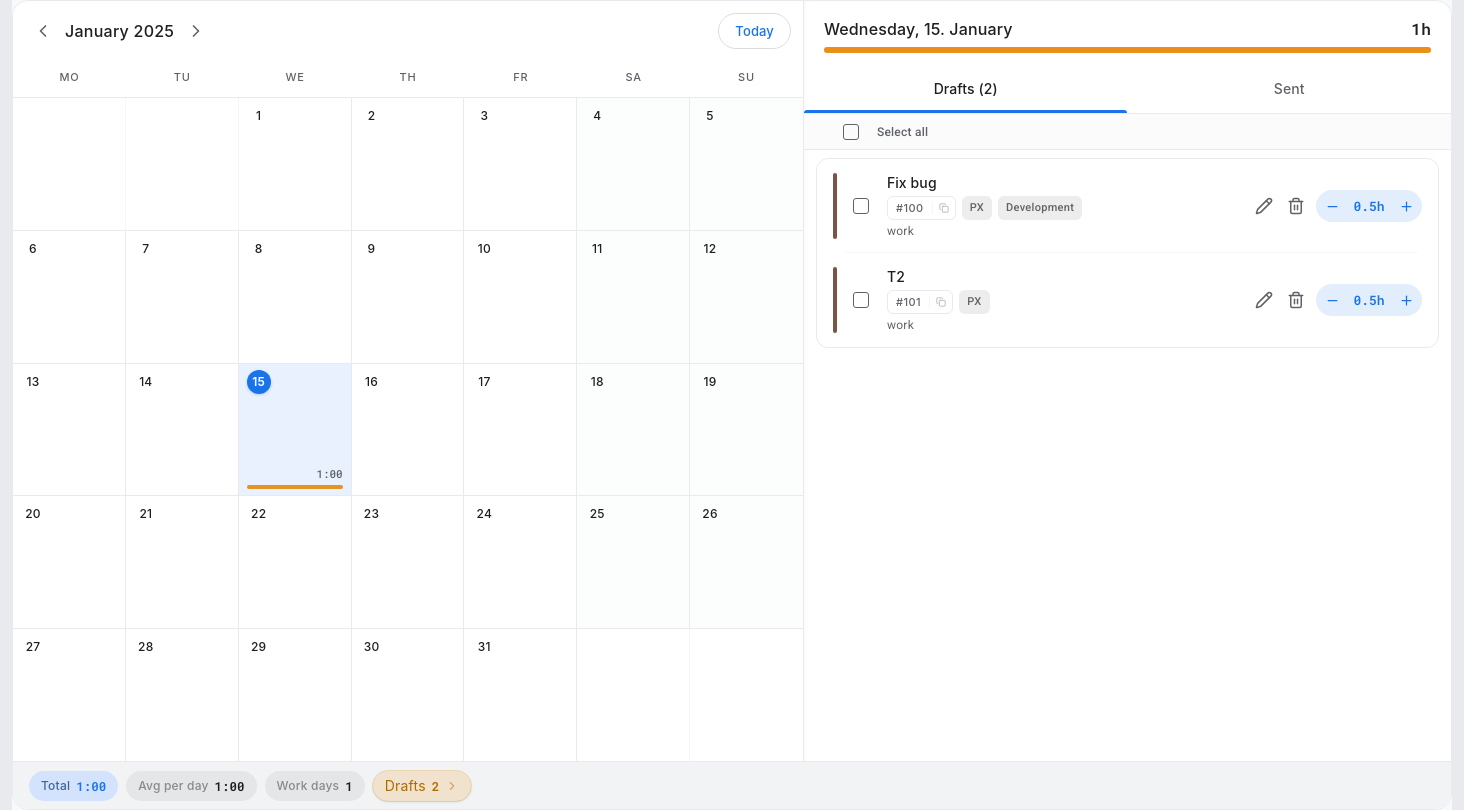
MonthView › handleBatchSync removes synced IDs from selection (sync button disappears)
Step 1. Click the checkbox next to "Select all" → point(851, 132), box [837,118,865,146]
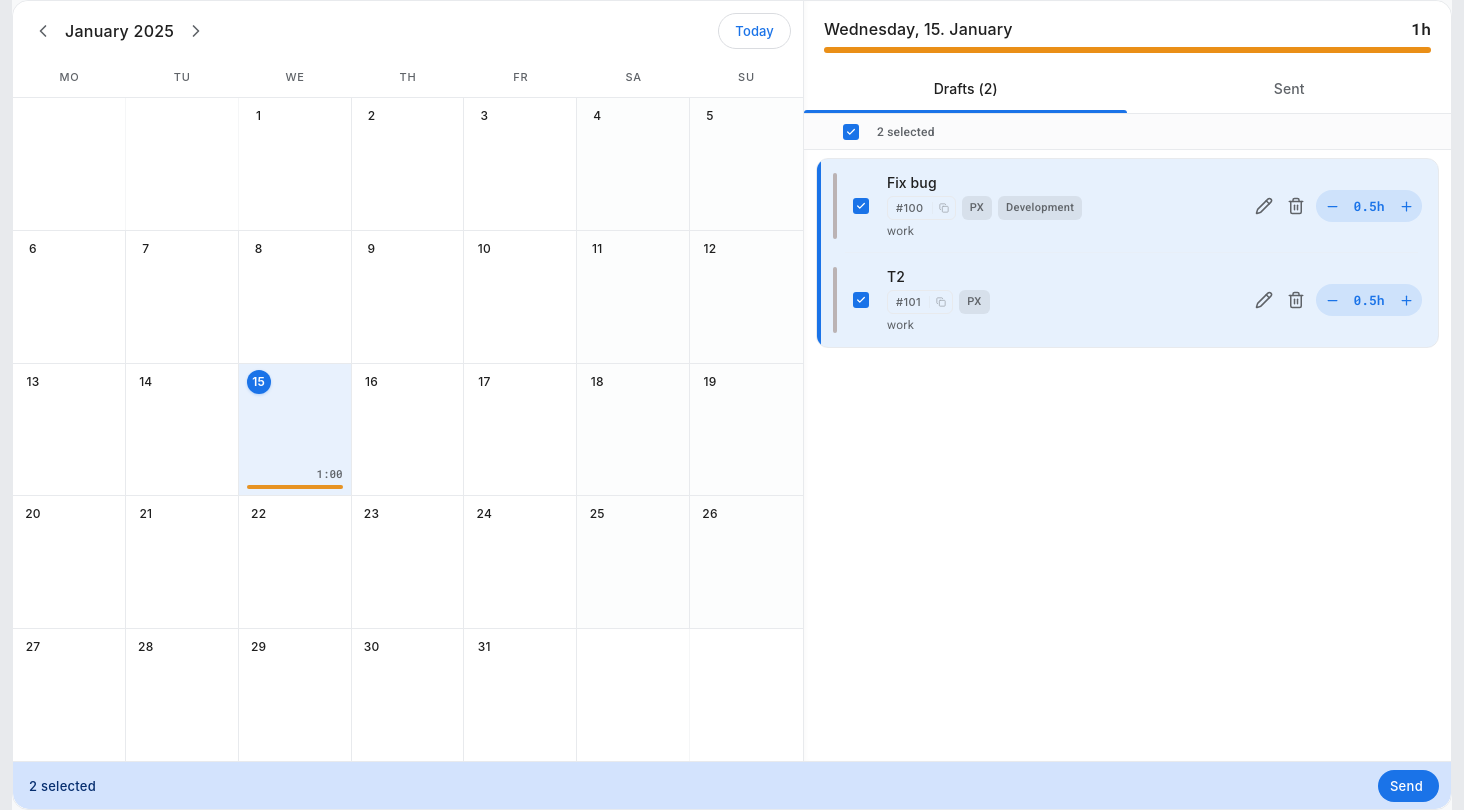
Now the button "Send" is shown
Step 2. Click the button "Send" → point(1408, 786), box [1378,770,1439,802]
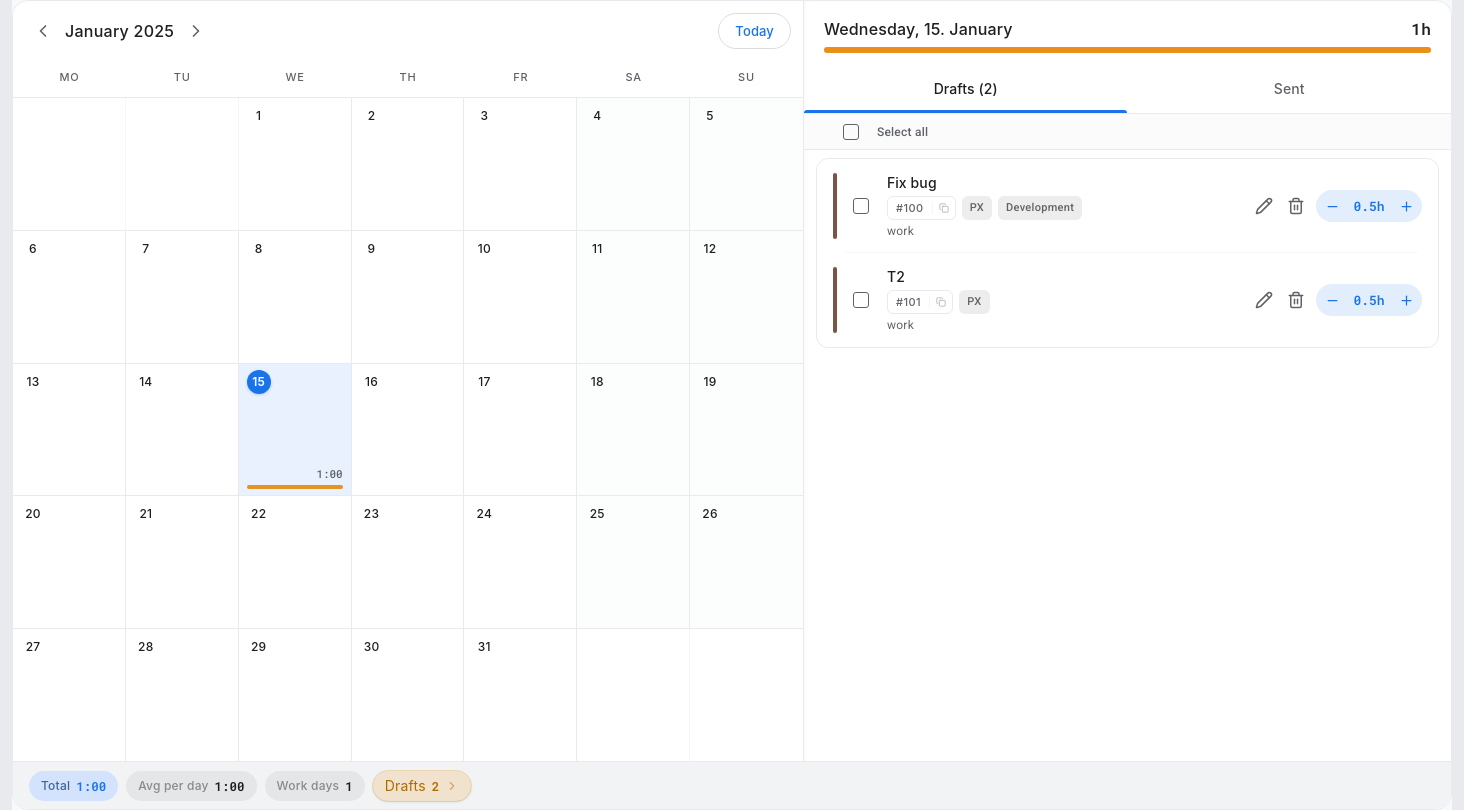
Now the button "Send" is gone
